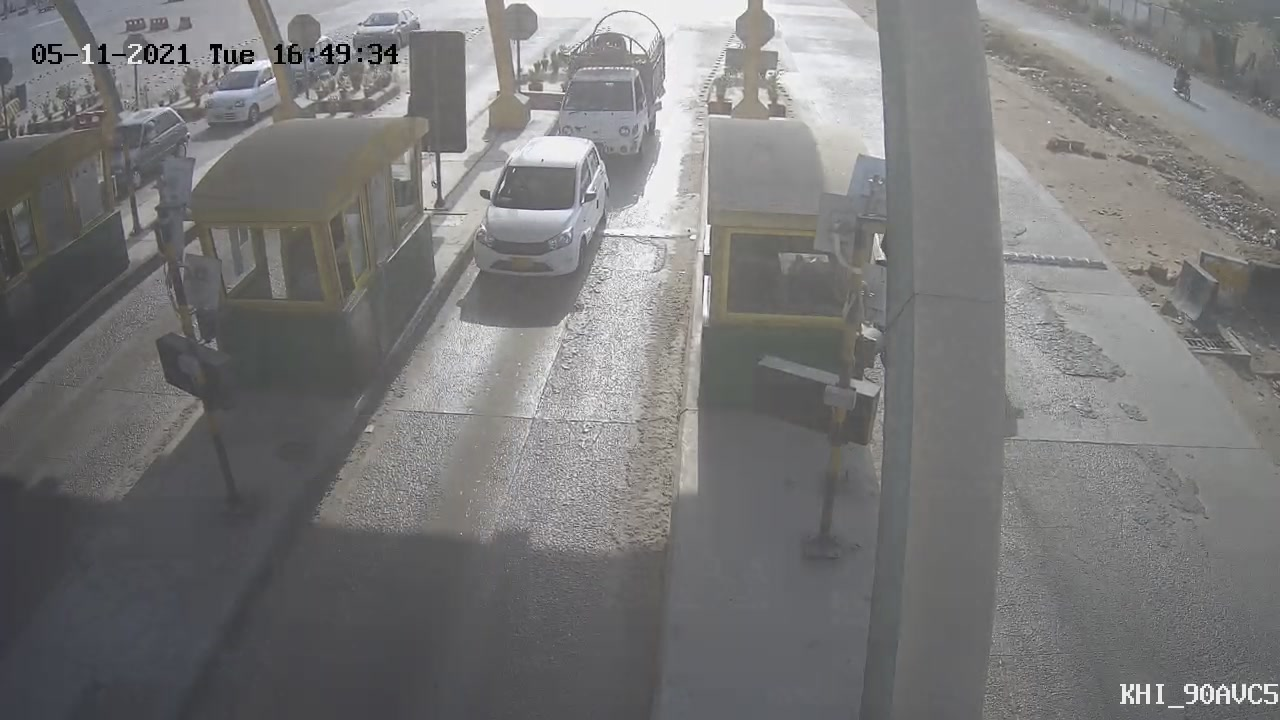F1: (461, 133, 616, 295)
F2: (548, 8, 680, 173)
